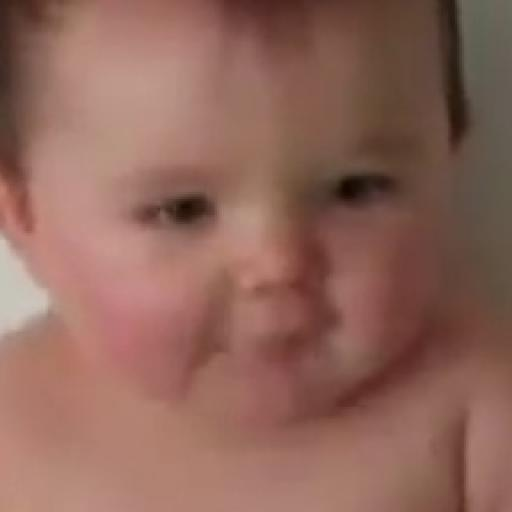Autism: (18, 17, 490, 498)
